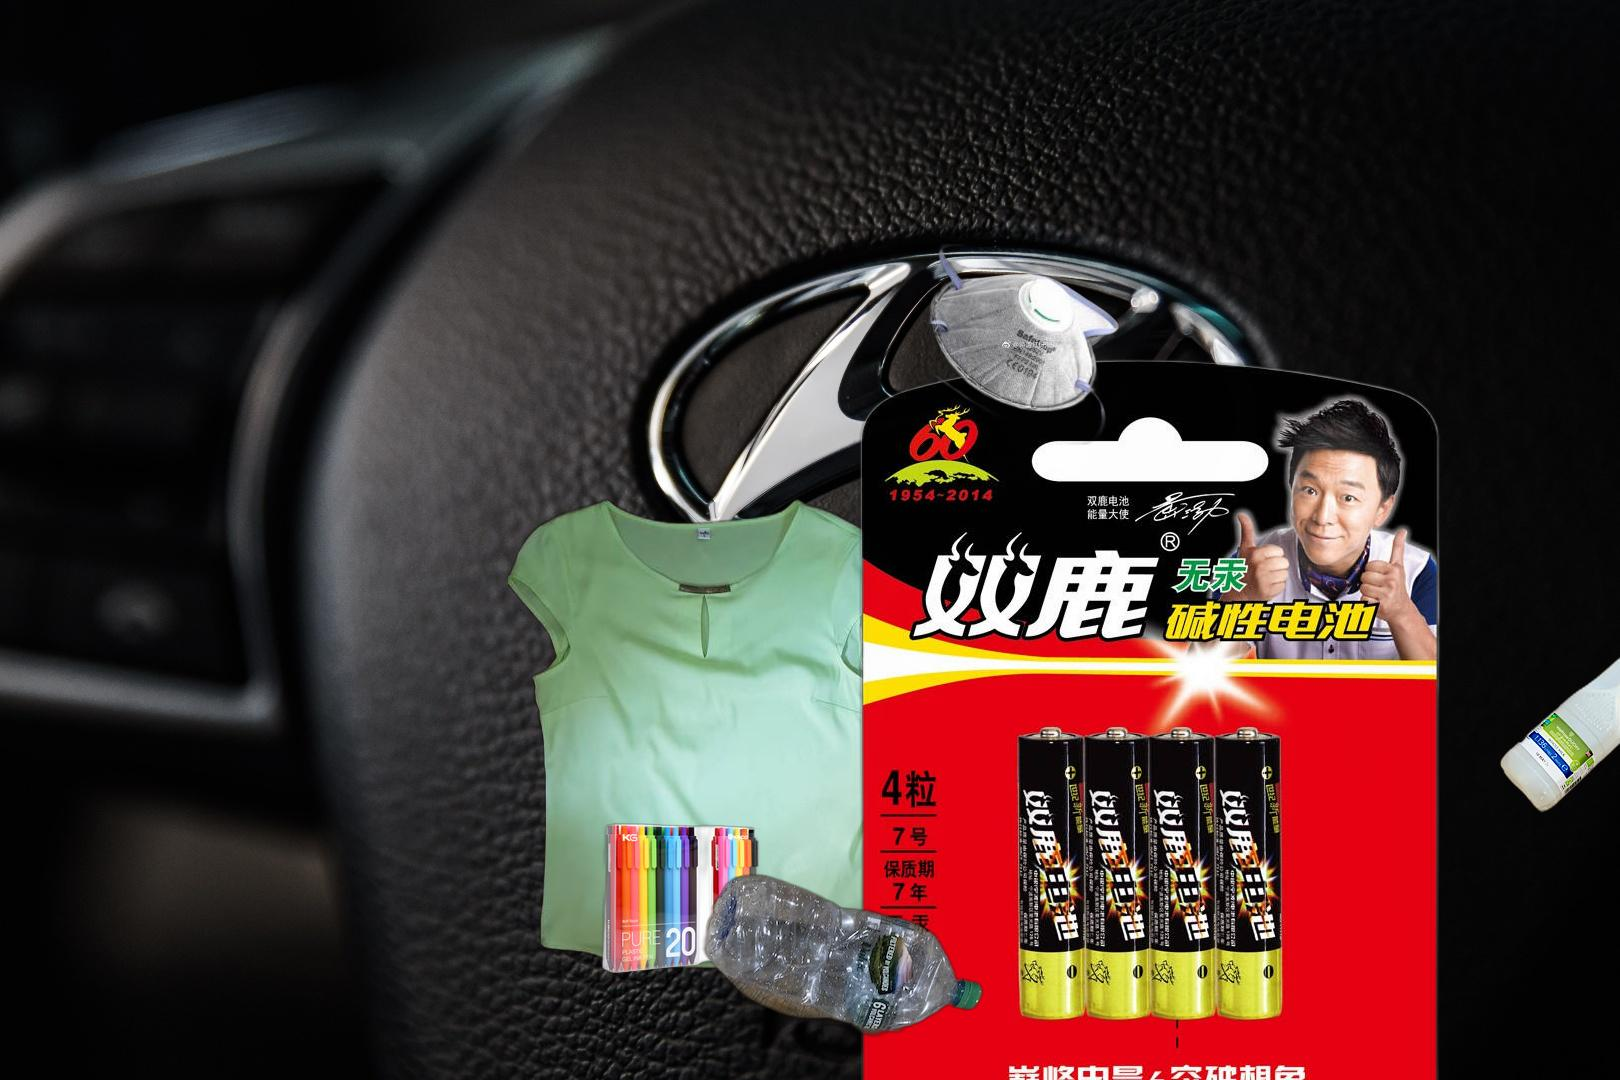battery: (855, 351, 1446, 1080)
clothes: (507, 494, 908, 975)
penholder: (587, 818, 763, 976)
plastic-bottles: (698, 871, 986, 1080), (1496, 636, 1620, 817)
trash: (906, 243, 1122, 445)
